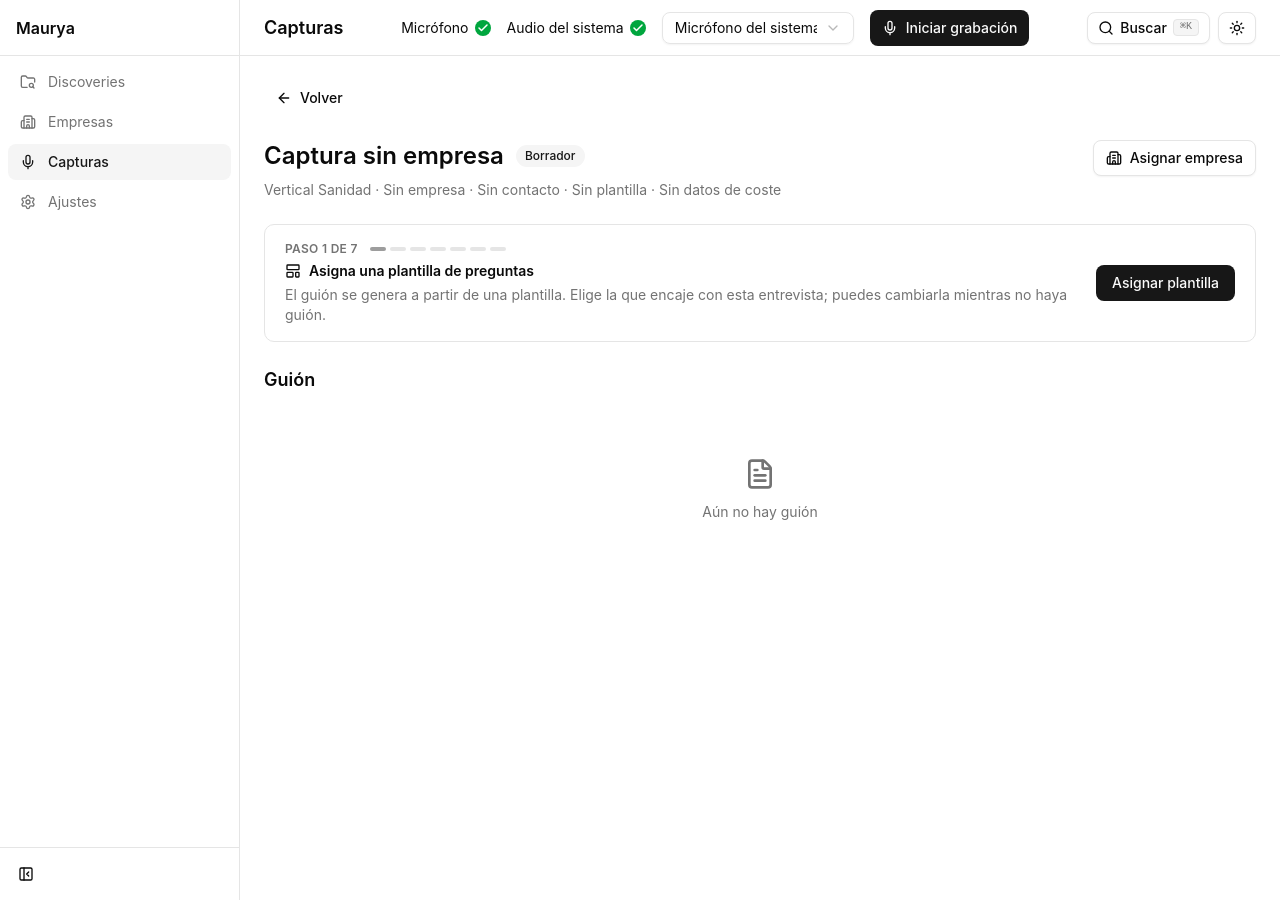
CaptureDetailPage (SPEC-035 capture UI cleanup) › recording without live transcript area › records a capture without the live transcript area, keeping chronometer, Detener, assistant panel and level meters
Click the button with test id "topbar-start-button" at (950,28), box 870,10 -> 1029,46
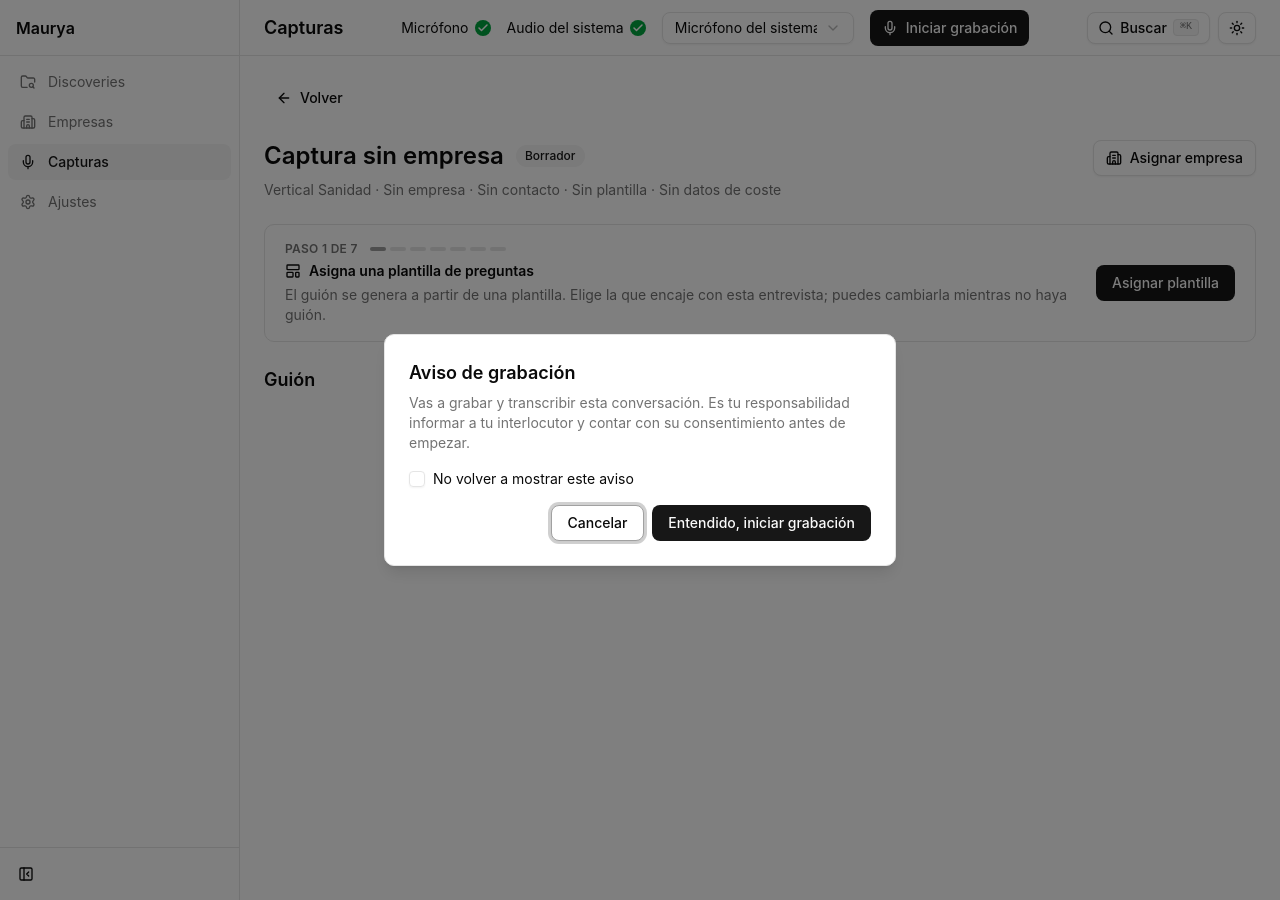
Now the heading "Aviso de grabación" is shown, box 409,359 -> 575,387
Click the button "Entendido, iniciar grabación" at (762,523), box 652,505 -> 871,541
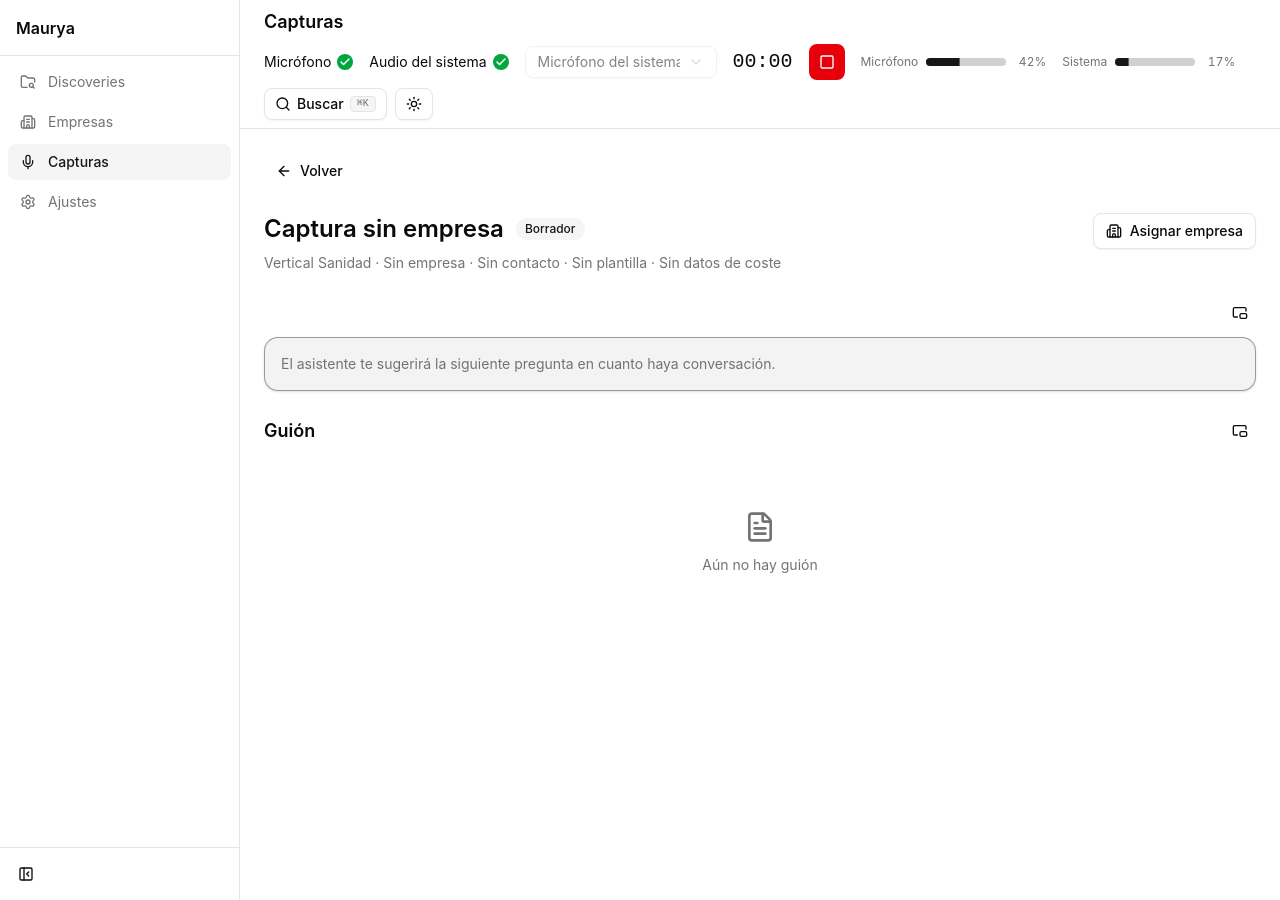
Now the button named "Detener" is shown, box 808,44 -> 844,80
Now the text "00:00" is shown, box 732,48 -> 792,76
Now the number of progress indicators is 2, box 926,58 -> 1006,66; 1115,58 -> 1195,66
